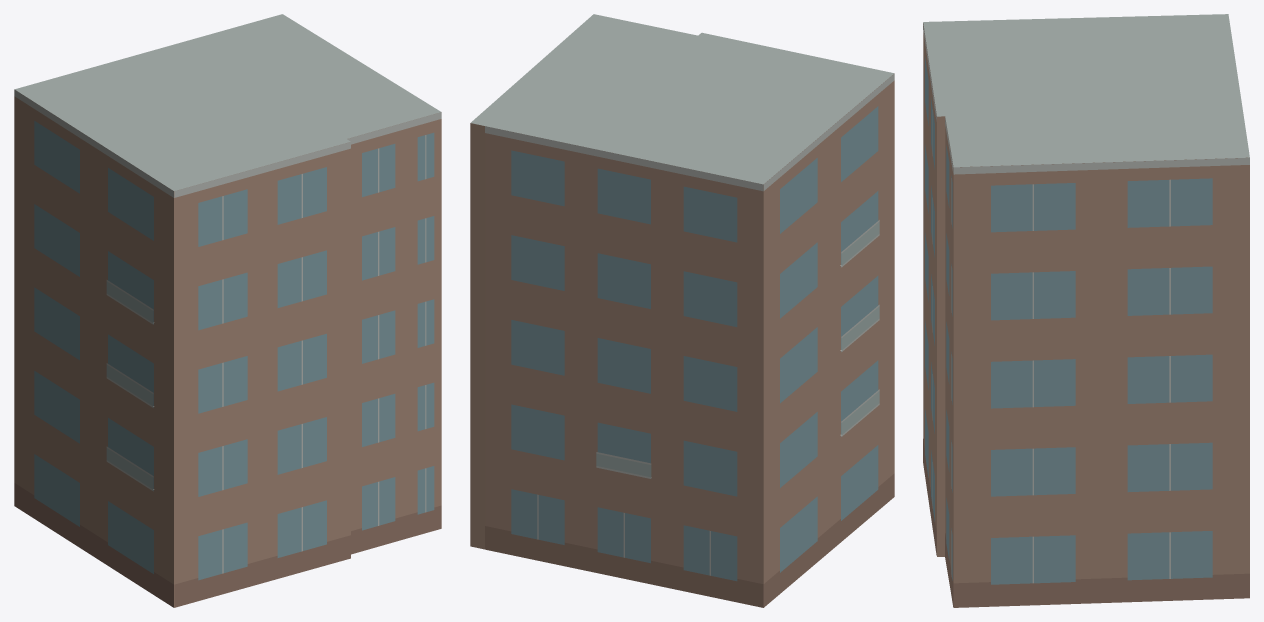
The model's file is survey-upis-32741882.glb.
3 renders of one model, left to right at view 1: azimuth 30°, elevation 25°; view 2: azimuth 150°, elevation 25°; view 3: azimuth 270°, elevation 25°, orthographic. The views are drawn at different scales.
Visible parts, largest first — view 1: survey-upis-32741882.tmp; view 2: survey-upis-32741882.tmp; view 3: survey-upis-32741882.tmp.
Part boxes in pixels (left/top/right/bottom): survey-upis-32741882.tmp: left=14, top=14, right=441, bottom=607; survey-upis-32741882.tmp: left=470, top=14, right=894, bottom=607; survey-upis-32741882.tmp: left=923, top=14, right=1249, bottom=607.
Size of the model in its own units: 11.13 by 14.9 by 10.02.
